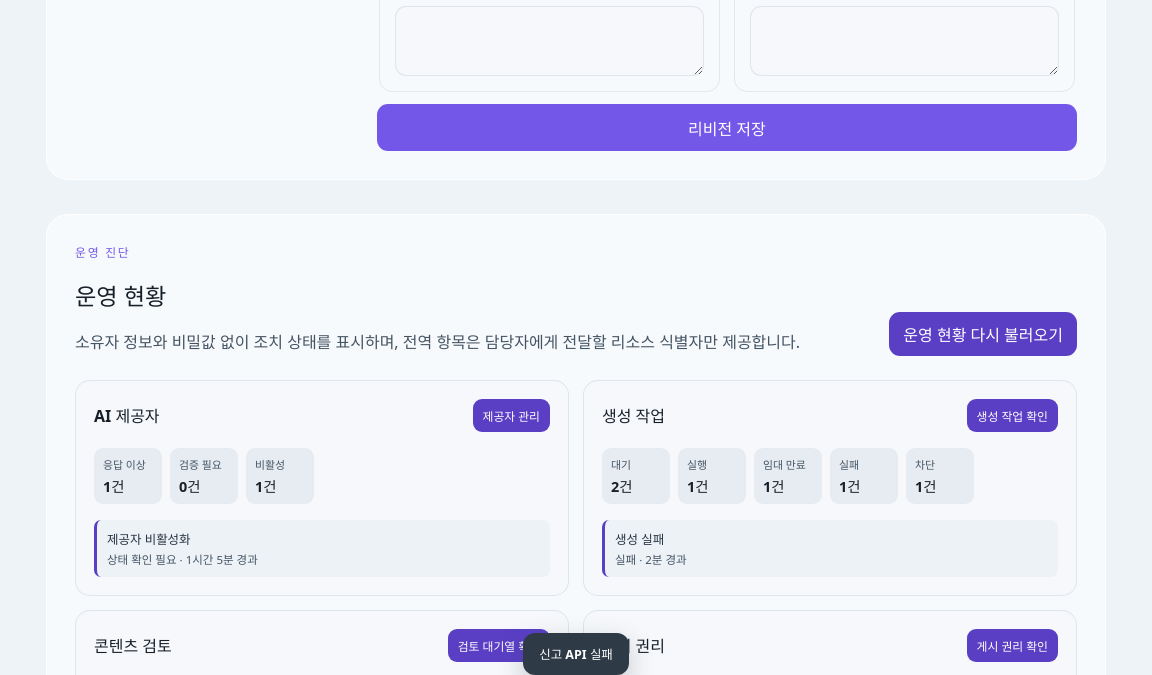
Test: 다른 관리자 API 실패와 운영 현황 실패를 격리하고 실패한 새로고침에서 이전 값을 지운다
(page scrolled)
Expected: the text "생성 실패" is shown, [615,531,664,548]
Click the button "운영 현황 다시 불러오기" at (983, 334), box [889,312,1077,356]
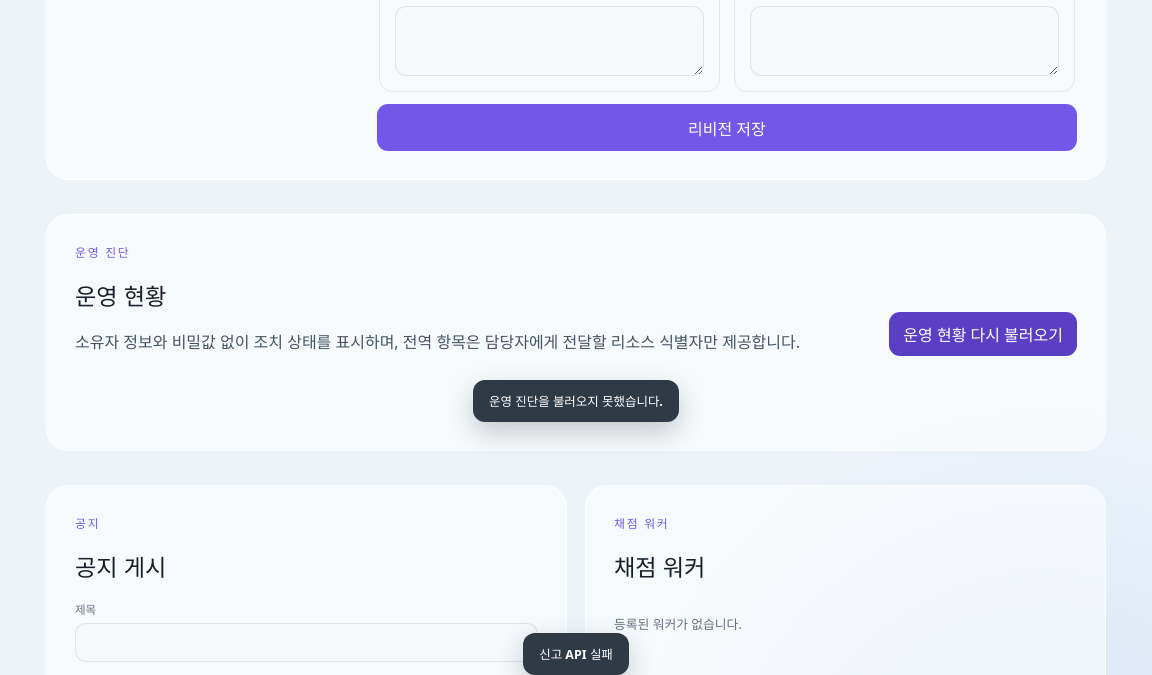
Now the text "생성 실패" is gone
Now the message "운영 진단을 불러오지 못했습니다." is shown, box [473,380,679,422]
